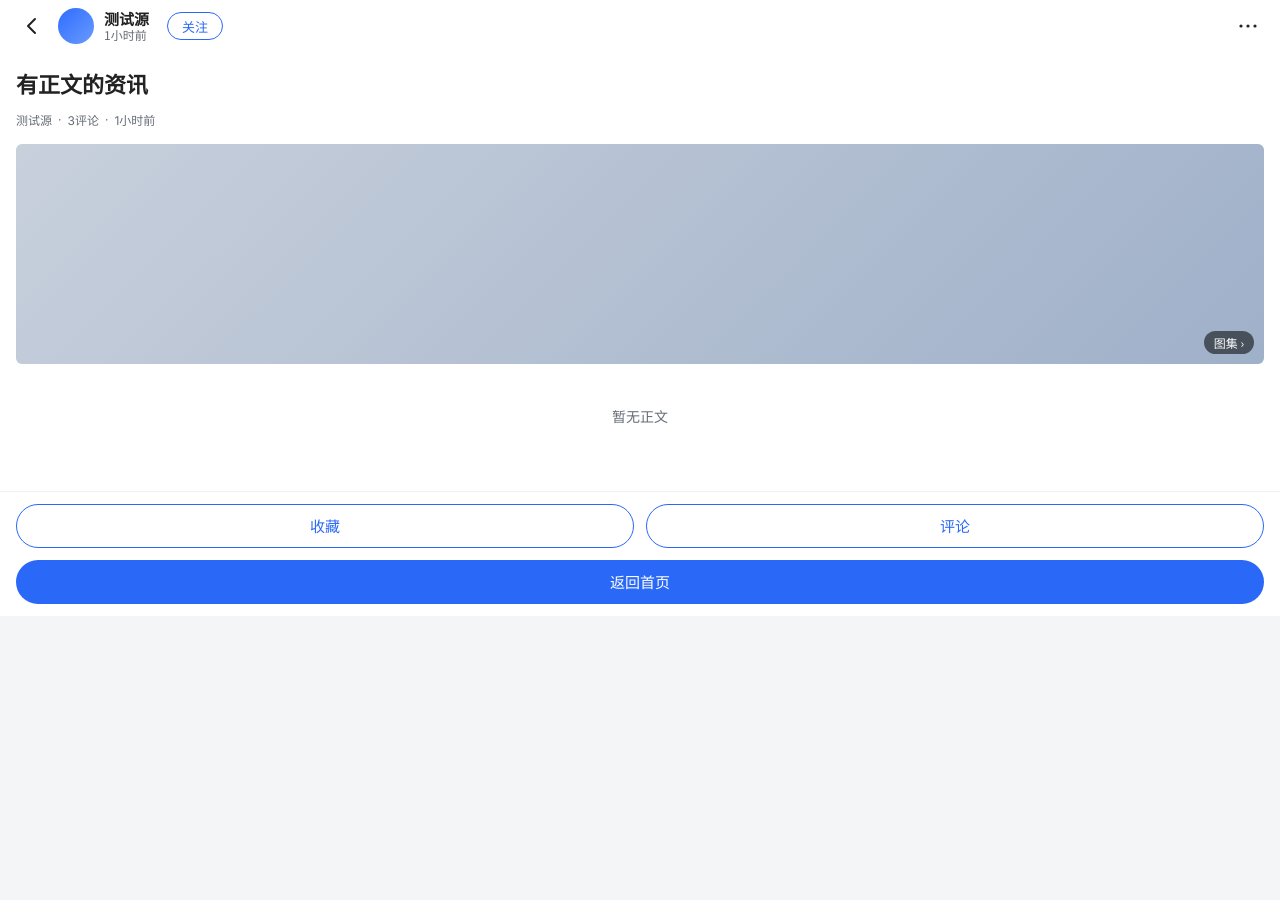
views/NewsDetail 关注来源（E6b） › 未登录时不调接口，先弹登录门禁（别把失败留到最后一步）
Click the button with class "mt-nav__follow" at coordinates (195, 26), box [167,12,223,40]
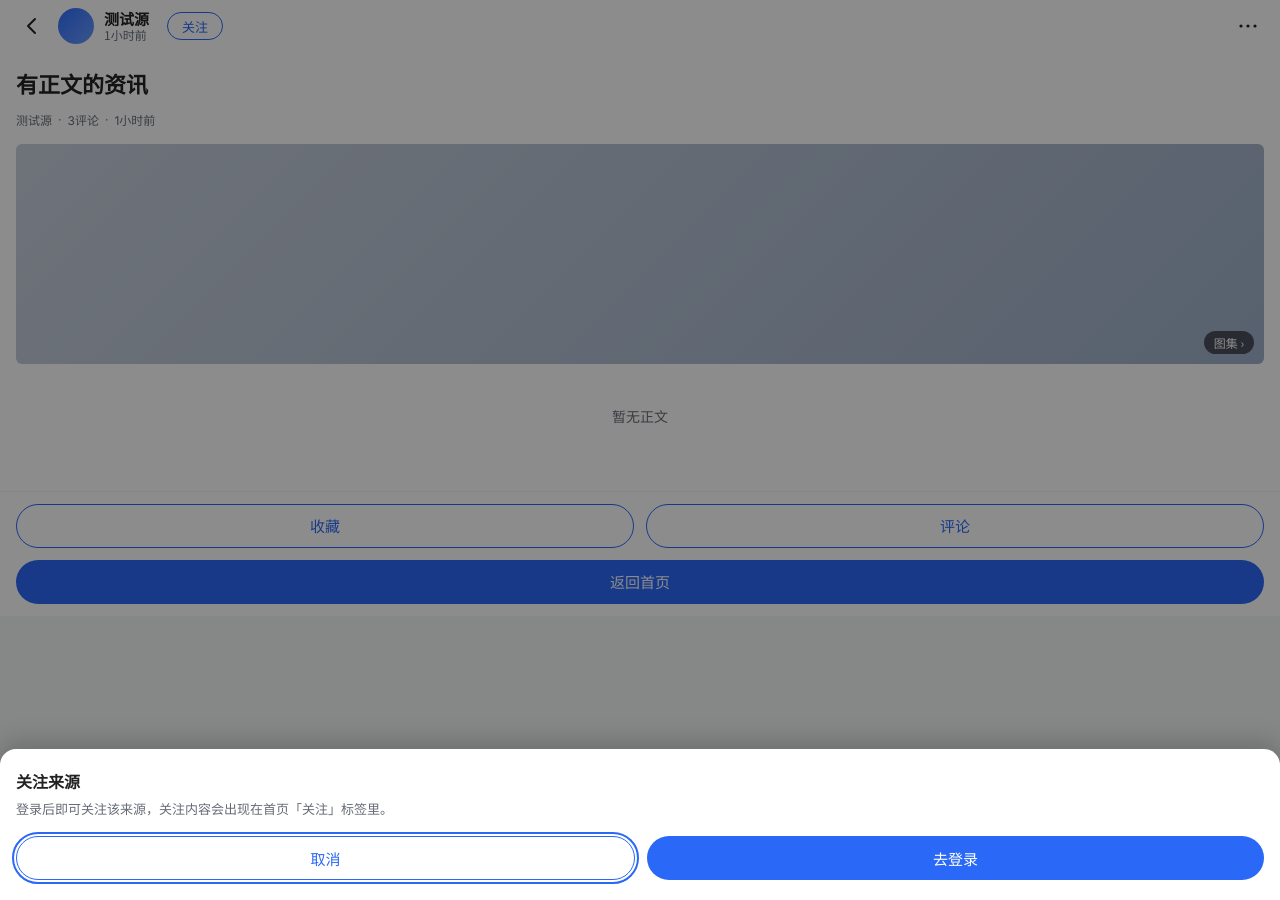
expect the text "关注来源" is shown: met, box [16,769,80,793]
expect the text "登录后即可关注该来源" is shown: met, box [16,799,393,818]
